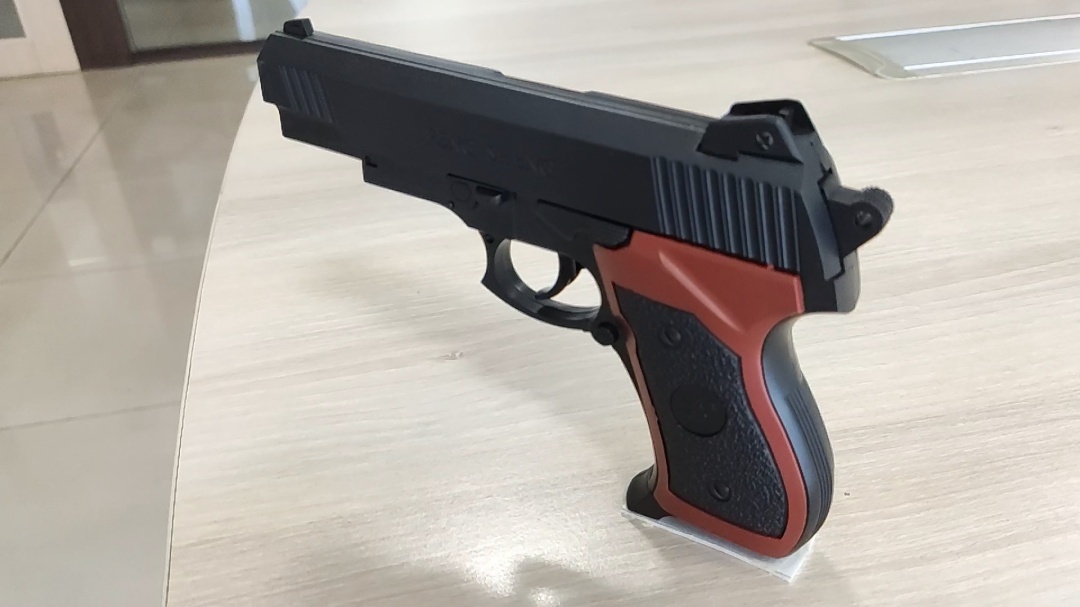gun: (254, 16, 895, 562)
